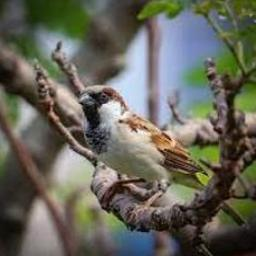Sparrow: (78, 84, 208, 218)
